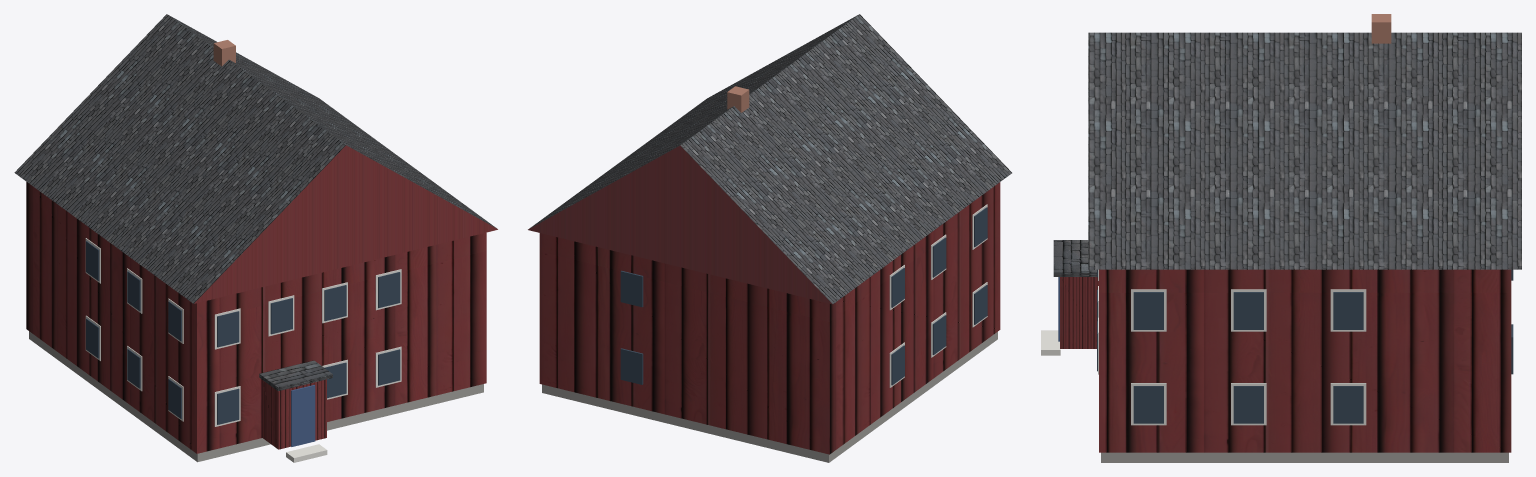
The model's file is asset.glb.
3 renders of one model, left to right at view 1: azimuth 30°, elevation 25°; view 2: azimuth 150°, elevation 25°; view 3: azimuth 270°, elevation 25°, orthographic. The views are drawn at different scales.
Parts seen in each view (by area): view 1: body, roof, gable_end, foundation, porch, door, porch_cap, win.012, win.011, win, win.002, win.013 (+4 smaller); view 2: body, roof, gable_end, foundation, win.020, win.009, chimney; view 3: roof, body, foundation, porch, porch_cap, win.006, win.007, win.008, win.017, win.018, win.019, chimney (+3 smaller).
Boxes of the visible parts, x1,y1,x2,y2 form: body: (26, 182, 486, 453); roof: (14, 14, 496, 303); gable_end: (194, 145, 497, 303); foundation: (29, 331, 483, 462); porch: (262, 379, 326, 449); door: (291, 385, 315, 446); porch_cap: (259, 360, 332, 391); win.012: (324, 285, 346, 321); win.011: (270, 298, 292, 334); win: (217, 388, 239, 424); win.002: (378, 349, 400, 385); win.013: (378, 272, 400, 308); body: (539, 182, 1000, 454); roof: (528, 14, 1011, 303); gable_end: (528, 145, 832, 304); foundation: (542, 331, 997, 462); win.020: (620, 270, 643, 307); win.009: (620, 348, 643, 384); chimney: (727, 86, 749, 112); roof: (1088, 32, 1521, 269); body: (1099, 269, 1511, 452); foundation: (1101, 452, 1508, 462); porch: (1060, 277, 1098, 348); porch_cap: (1053, 240, 1096, 276); win.006: (1133, 386, 1163, 423); win.007: (1233, 386, 1263, 423); win.008: (1333, 386, 1363, 423); win.017: (1133, 292, 1163, 329); win.018: (1233, 292, 1263, 329); win.019: (1333, 292, 1363, 329); chimney: (1371, 14, 1391, 43).
Bounding box in the file's own units: 11.94 × 11.15 × 13.49.
7 materials, 2 textured.
